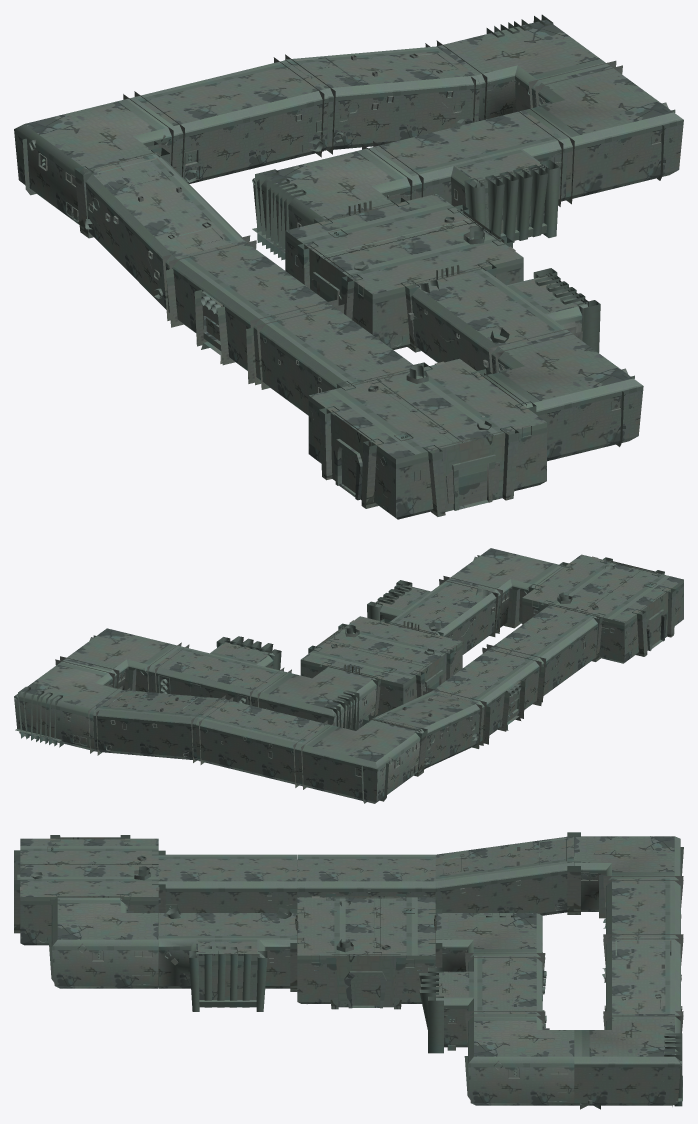
Rendered from Combined_Mesh_root_scene_b20ae4d5__zombies2_diffuse_08_b0bdab26_c1f257.obj.
3 renders of one model, top to bottom at view 1: azimuth 30°, elevation 25°; view 2: azimuth 150°, elevation 25°; view 3: azimuth 270°, elevation 25°, orthographic. The views are drawn at different scales.
Bounding box in the file's own units: 77.06 × 11.5 × 96.9.
Materials: 233 (233 with a texture image).
